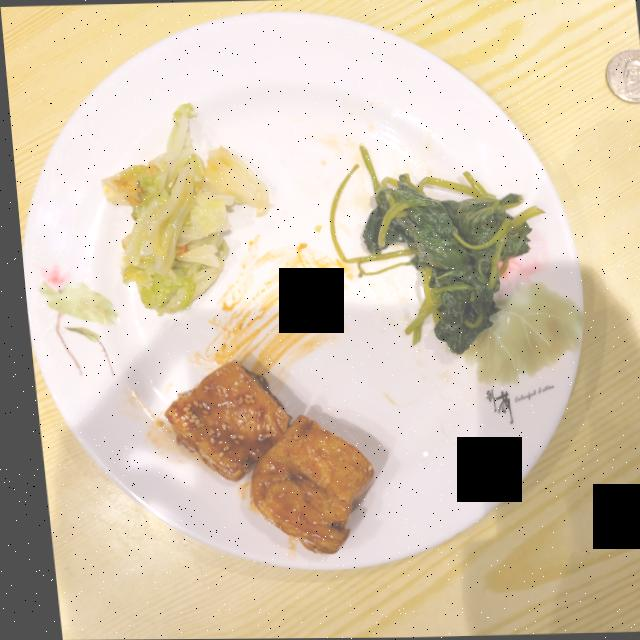cabbage: (98, 103, 265, 314)
coin: (604, 49, 640, 103)
creamy tofu: (157, 361, 365, 554)
sweet potato leaves: (326, 145, 539, 354)
